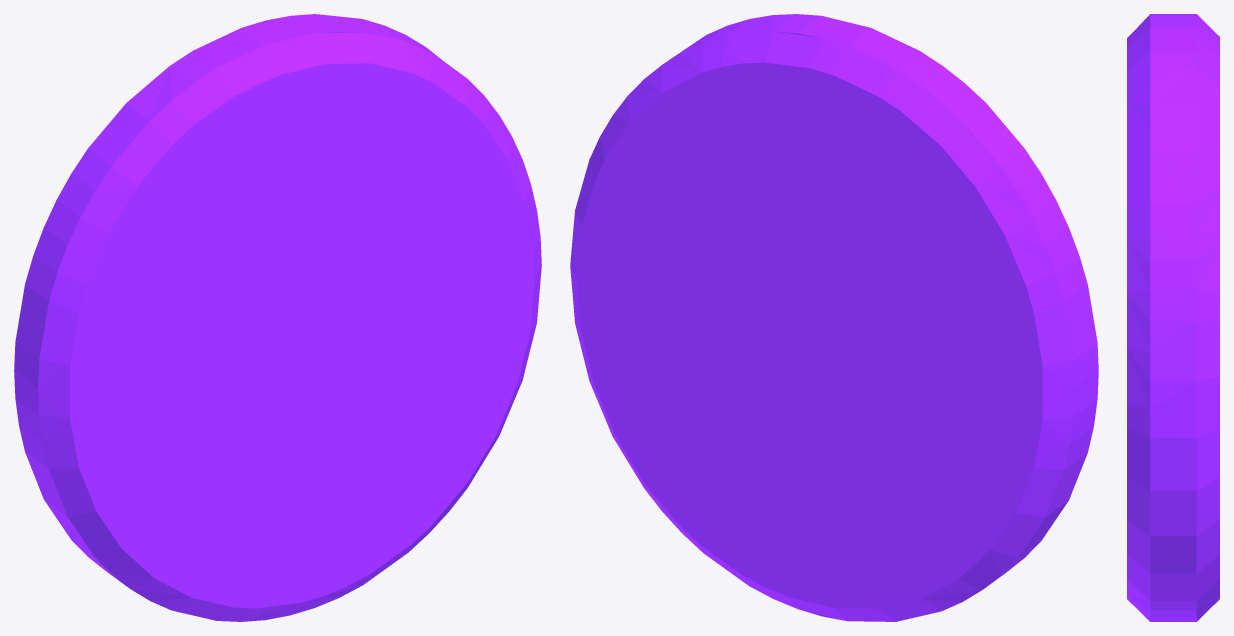
The model's file is purple_coin_2.glb.
3 views of the same model, side by side, from view 1: azimuth 30°, elevation 25°; view 2: azimuth 150°, elevation 25°; view 3: azimuth 270°, elevation 25° (orthographic). The views are drawn at different scales.
Parts seen in each view (by area): view 1: Cylinder; view 2: Cylinder; view 3: Cylinder.
Boxes of the visible parts, x1,y1,x2,y2 form: Cylinder: [14, 14, 541, 621]; Cylinder: [570, 14, 1098, 621]; Cylinder: [1127, 14, 1219, 621].
Size of the model in its own units: 1.83 by 2 by 0.3.
